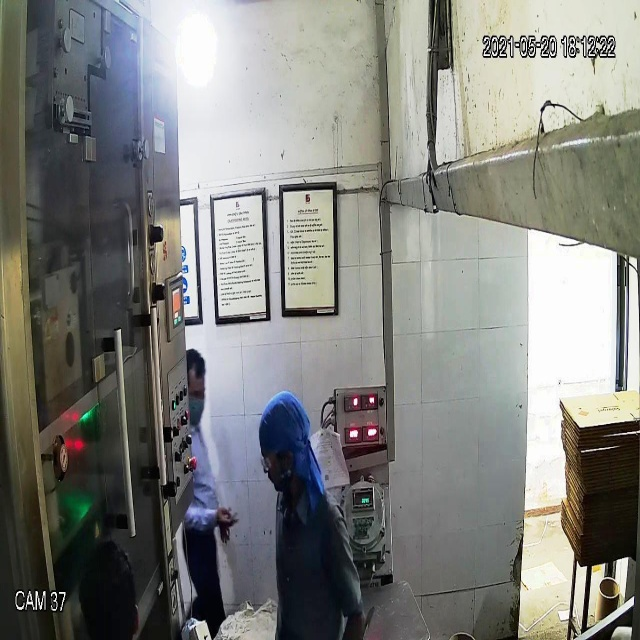Gafas: (252, 447, 292, 479)
